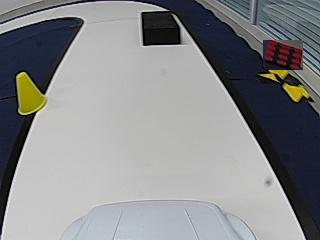block: (142, 12, 181, 45)
cone: (15, 74, 48, 115)
